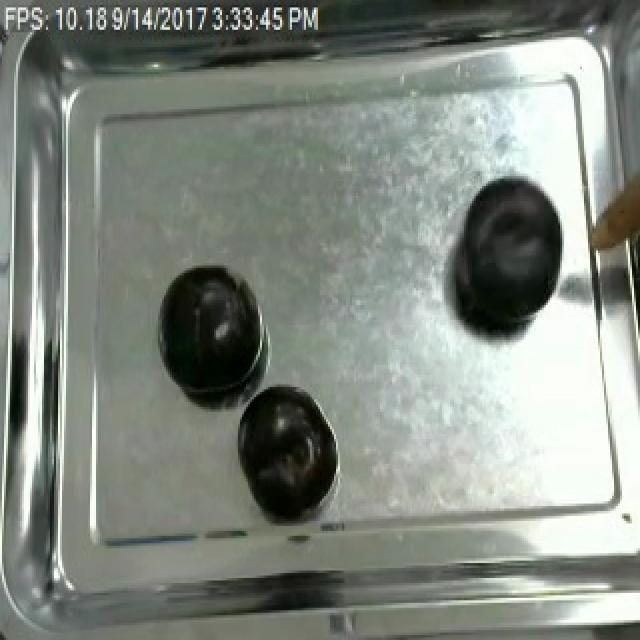Fruit: (444, 169, 574, 340), (156, 263, 260, 402), (234, 382, 336, 518)
